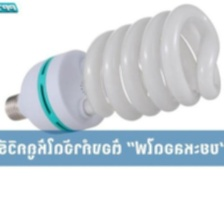light_bulb: (0, 3, 224, 135)
